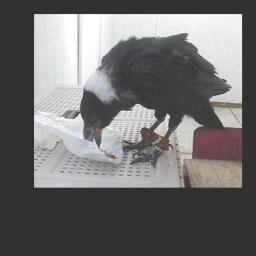Crow: (77, 32, 232, 169)
